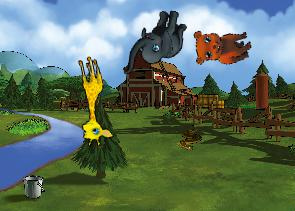bear: (188, 17, 255, 72)
elephant: (123, 4, 188, 81)
giraffe: (66, 54, 115, 148)
